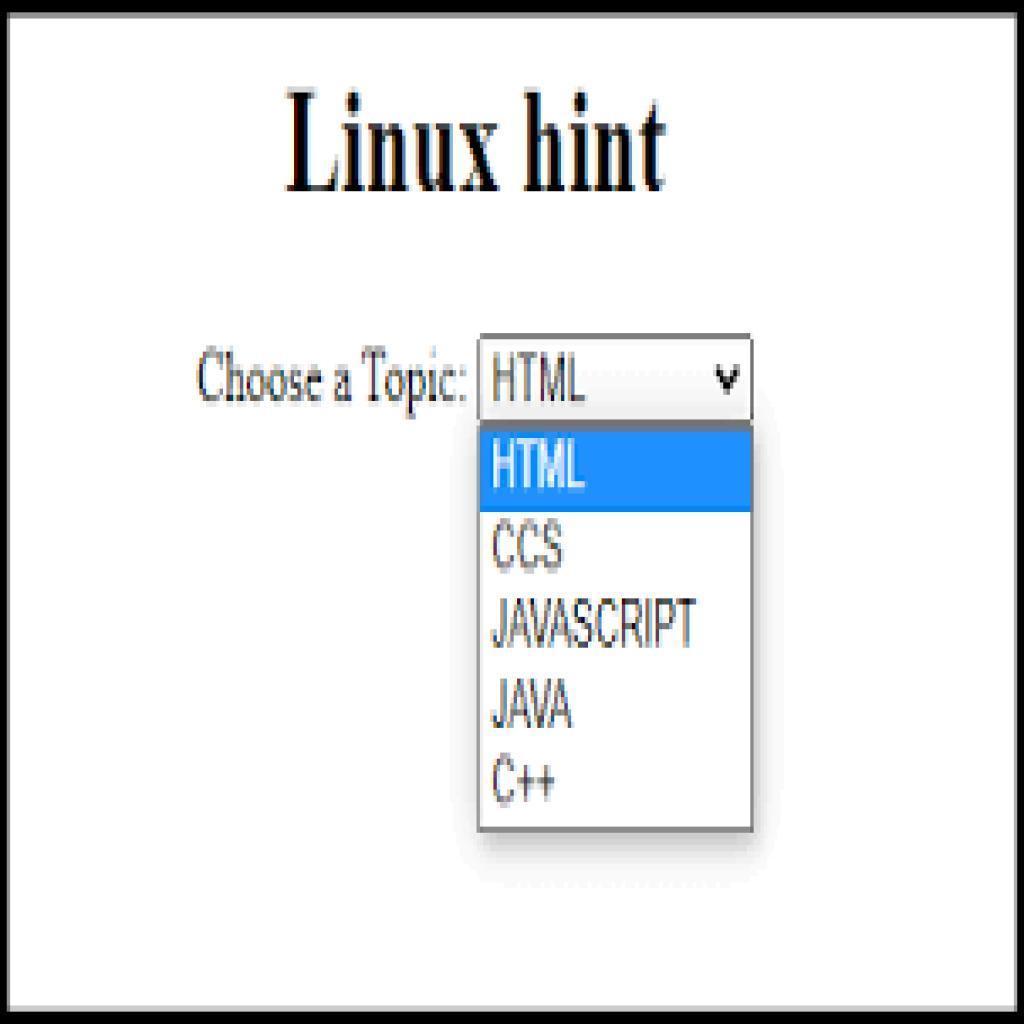dropdown: (480, 340, 752, 426)
